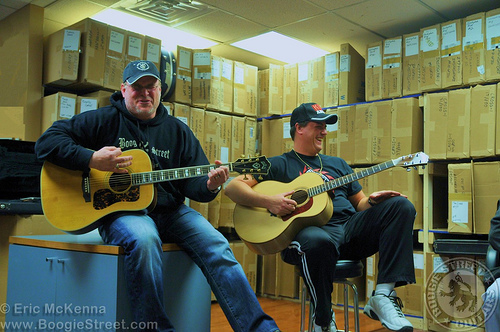guitar: (232, 151, 432, 257), (36, 147, 272, 235)
